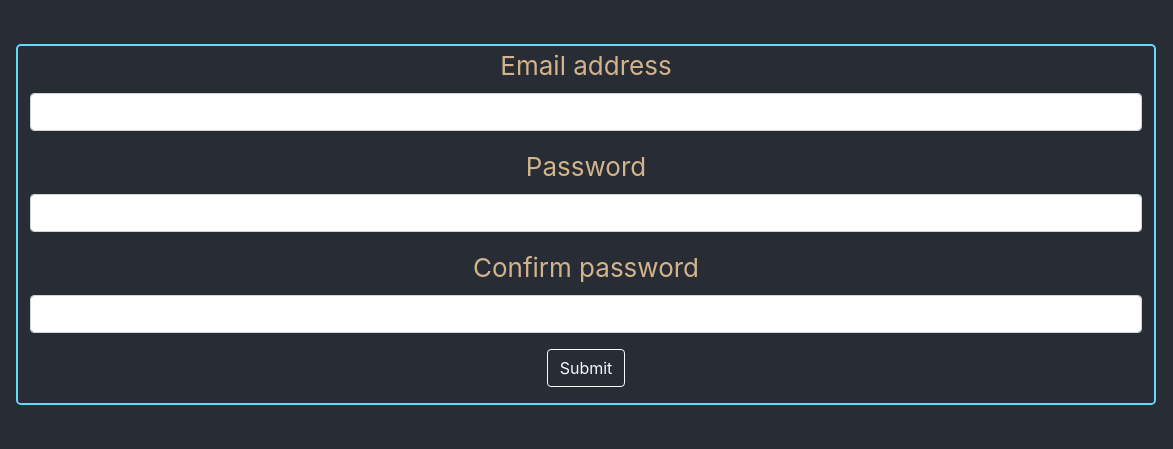
Test case: testing the App component › form should show error message on invalid password
Expected: the text "password is empty" is not shown
Type "right@gmail.com" into the field labelled "Email address" at (586, 112), box [30,92,1142,130]
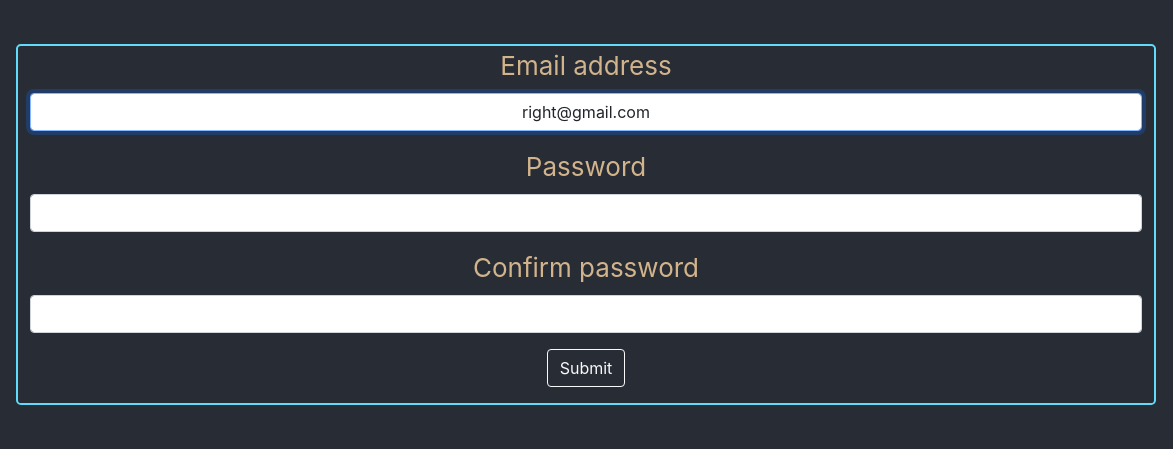
Click the button "Submit" at (586, 368), box [547,348,625,386]
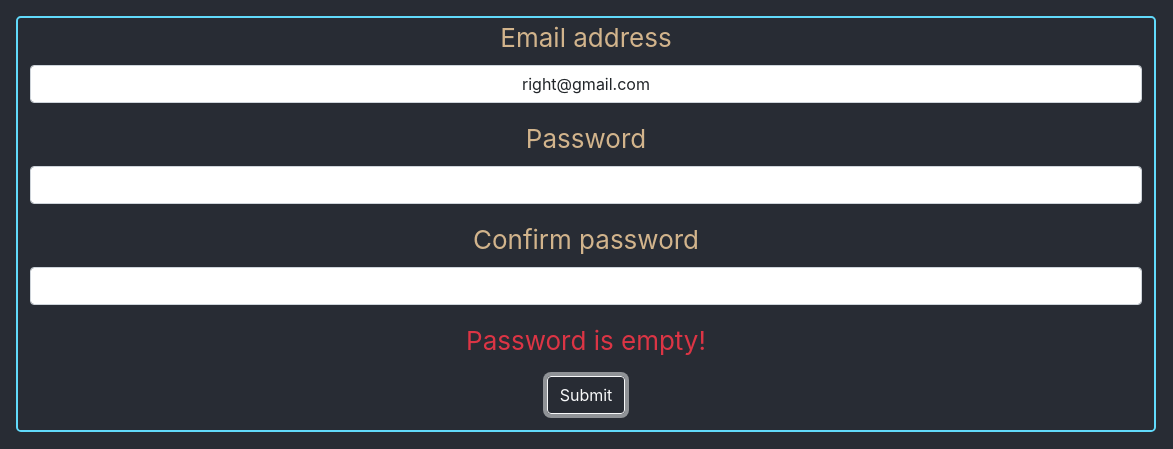
Now the text "Password is empty!" is shown, box [466,325,706,356]
